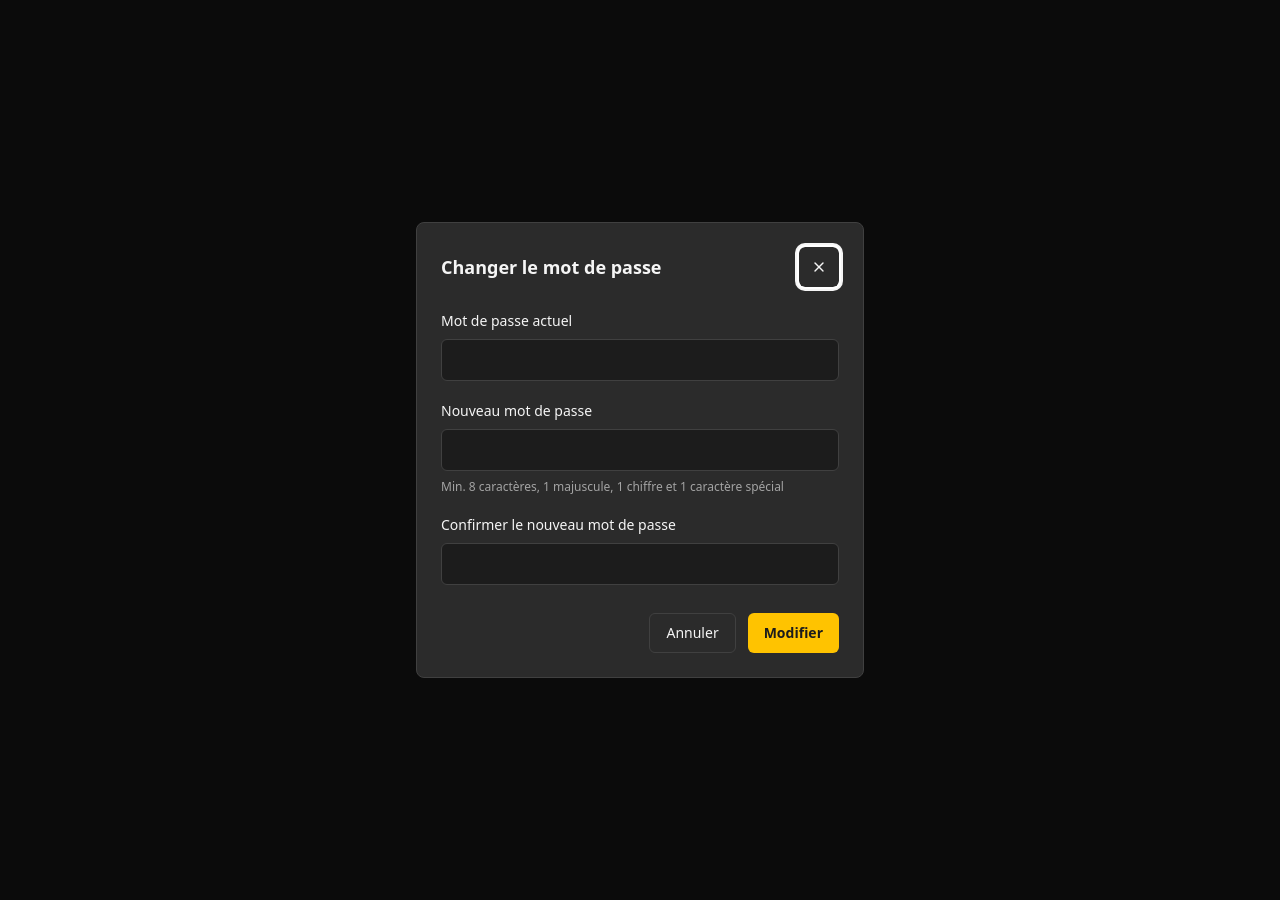
Test: ChangePasswordModal — form→success dialog lifecycle › releases the form dialog's scroll lock before the success dialog acquires its own
Type "OldPassw0rd!" into the password field labelled "Mot de passe actuel" at [640, 360], box [441,339,839,381]
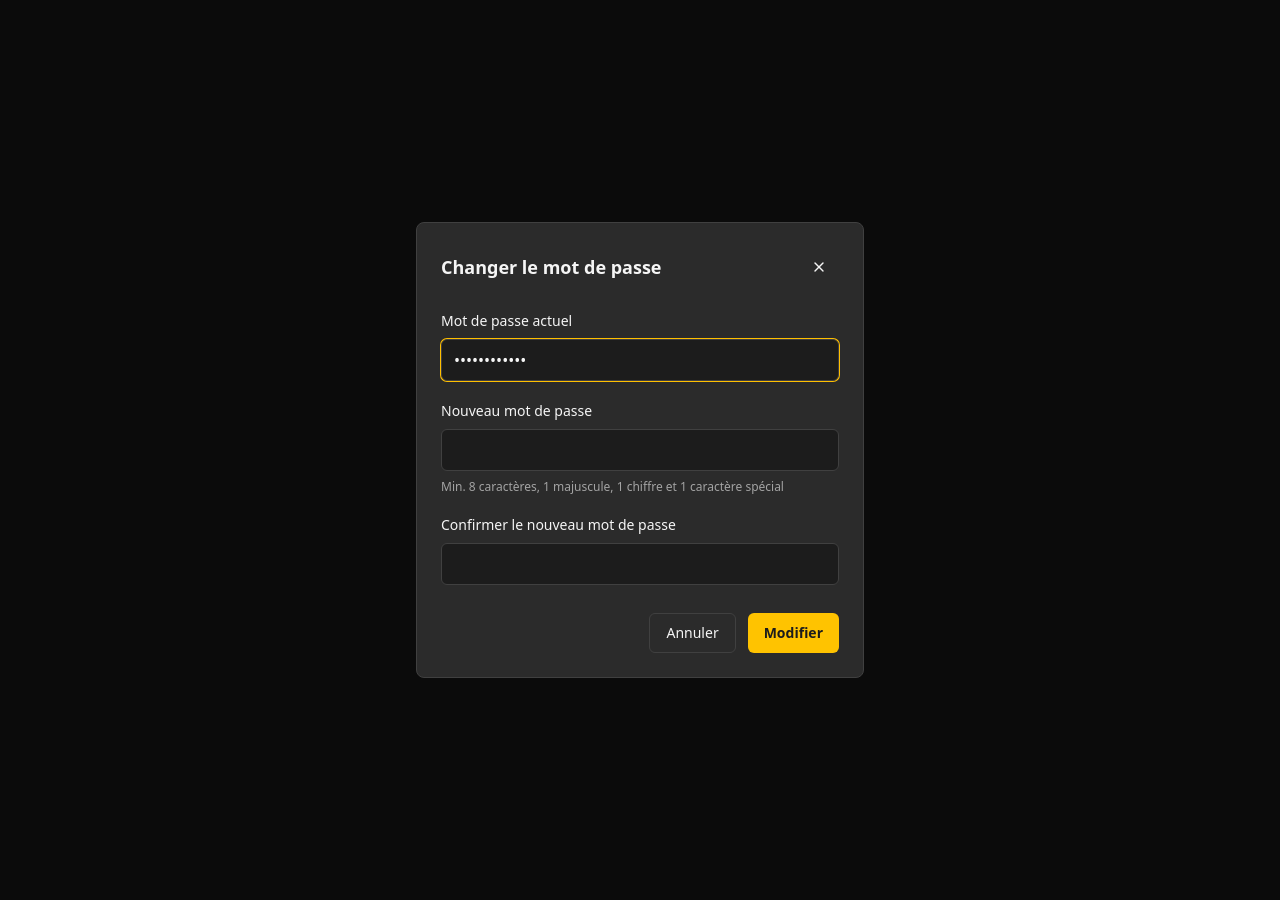
Type "NewPassw0rd!" into the password field labelled "Nouveau mot de passe" at [640, 450], box [441,429,839,471]
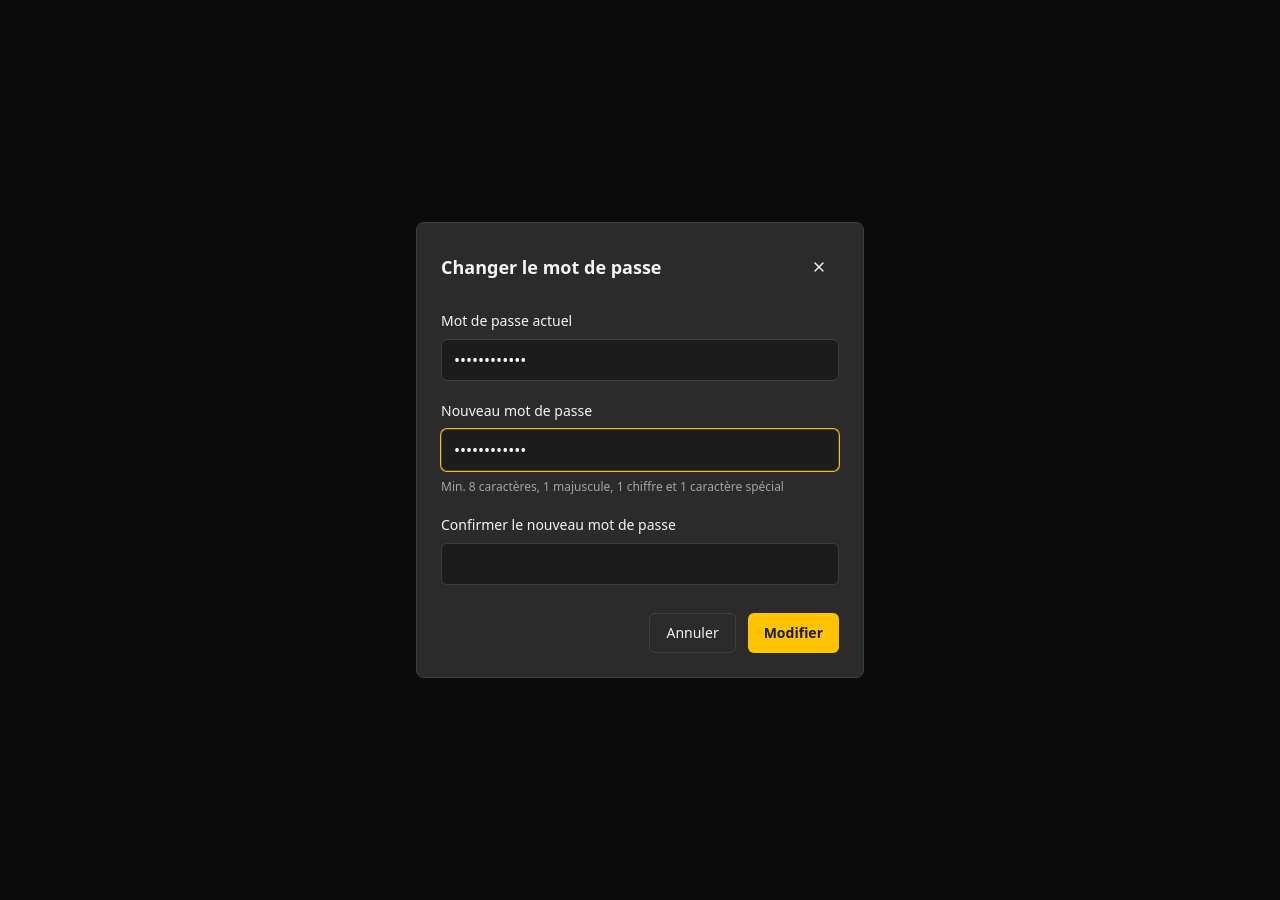
Type "NewPassw0rd!" into the password field labelled "Confirmer le nouveau mot de passe" at [640, 564], box [441,543,839,585]
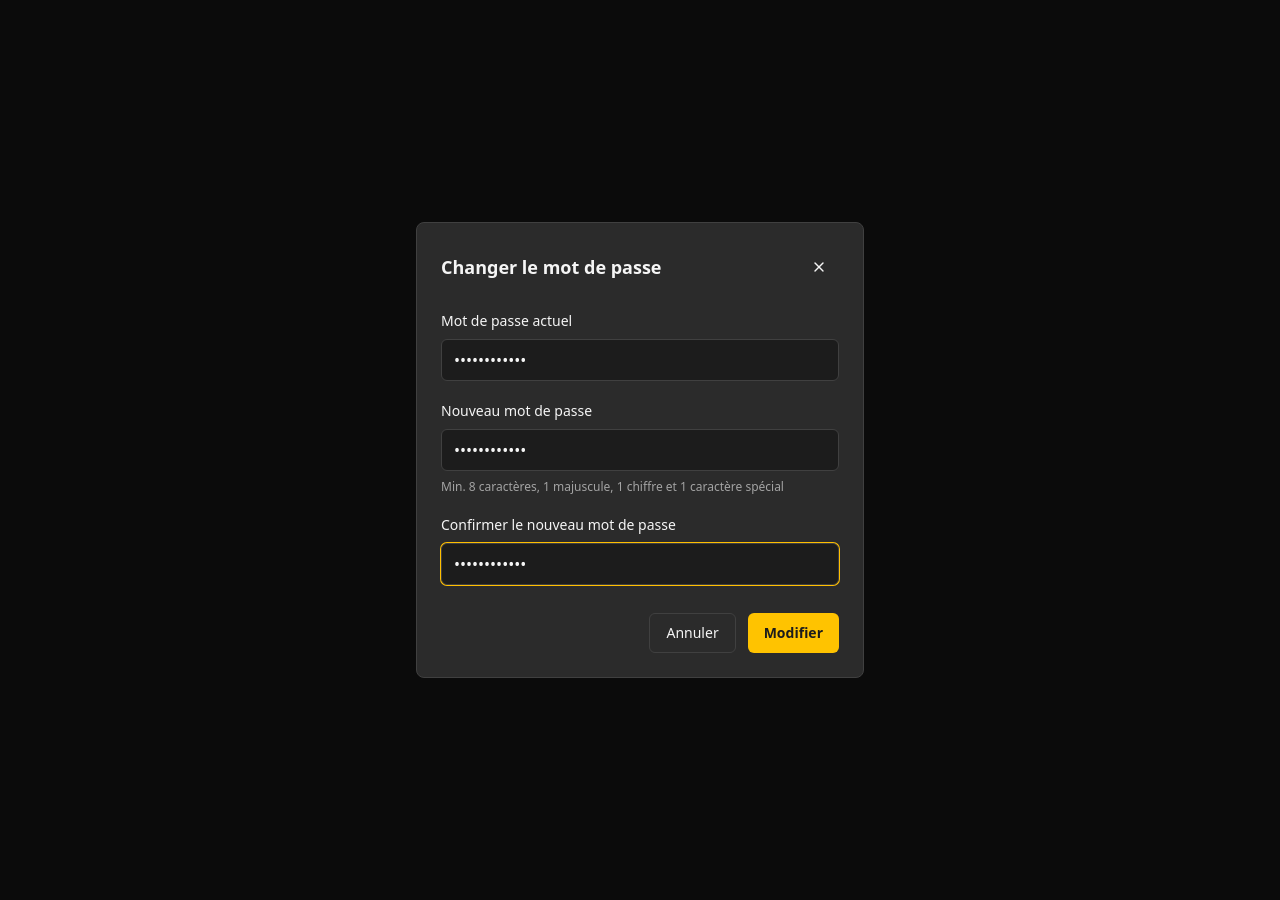
Click the button "Modifier" at [793, 633], box [748,613,839,653]
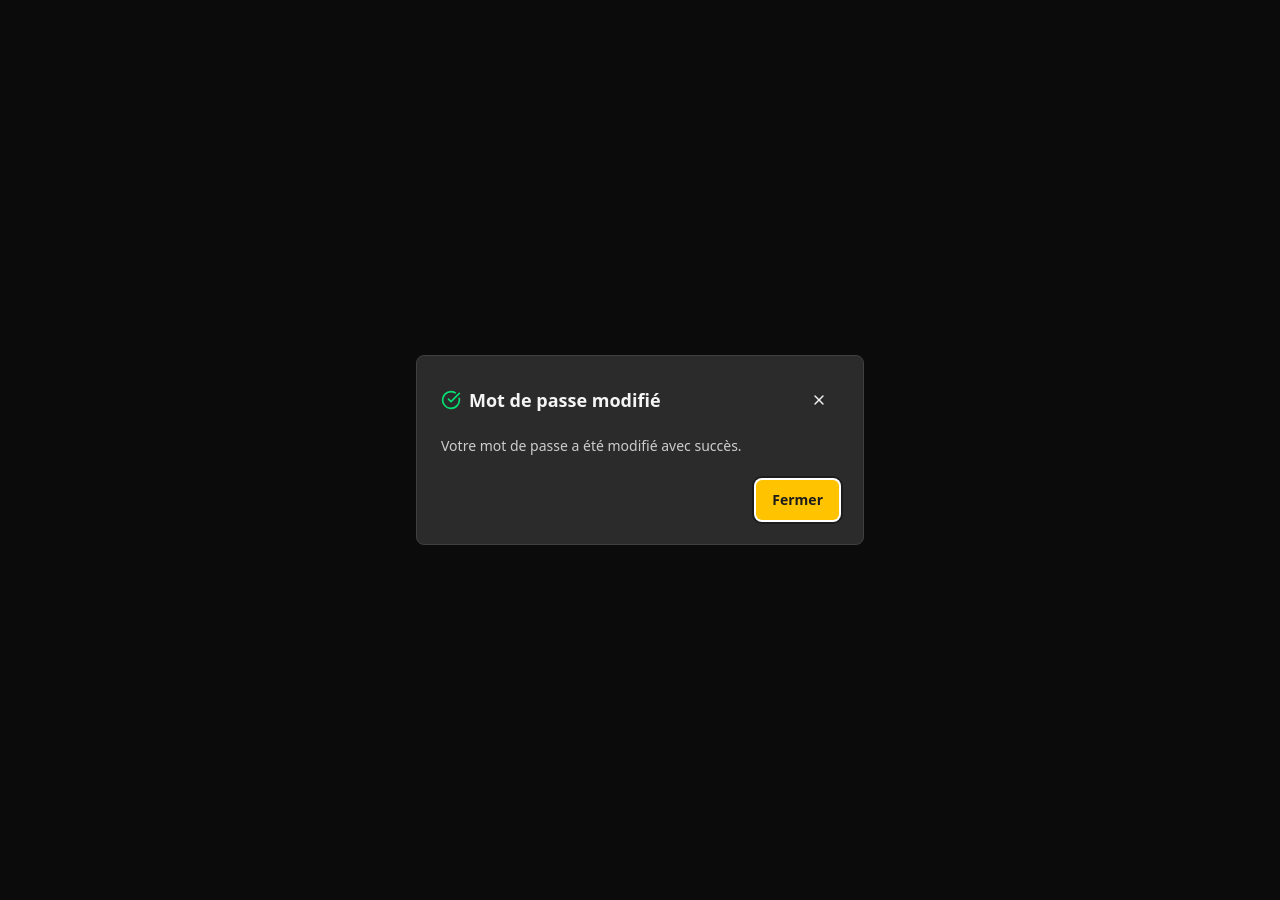
Expected: the text "Votre mot de passe a été modifié avec succès." is shown, [441,436,742,455]
